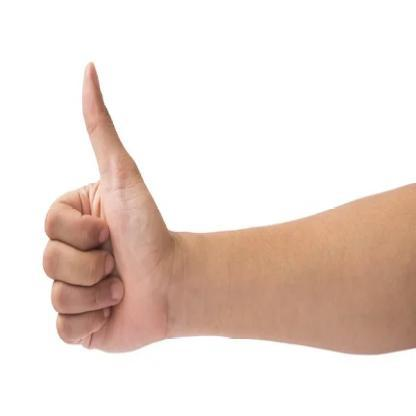thumb_up: (39, 57, 173, 356)
